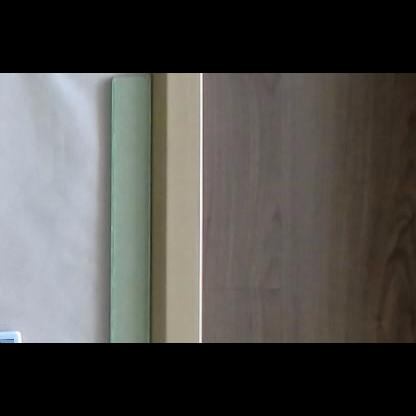7z: (0, 339, 14, 343)
